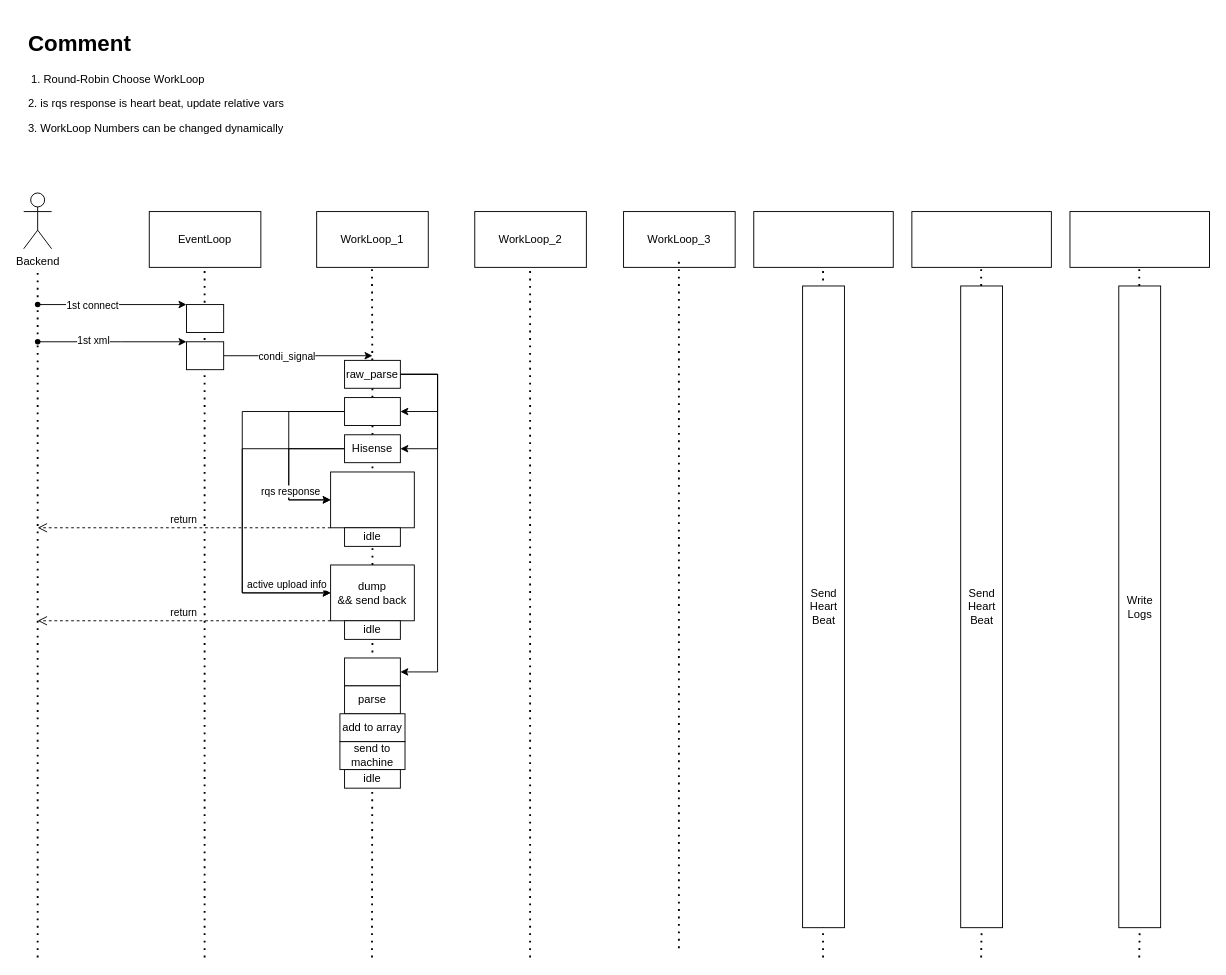
Some shapes in this 1226 by 975 pixel diagram are drawn without their labels. The box of each missing label's shape, as (x1, y1, x2, y2) in pixels:
accept: (186, 304, 224, 332)
Hisense_HeartBeat_Loop: (911, 211, 1051, 267)
Logging_Thread: (1069, 211, 1209, 267)
pop rqs && dump && send back: (330, 471, 414, 528)
read: (186, 341, 224, 370)
xingzhi: (344, 397, 400, 425)
Xingzhi_HeartBeat_Loop: (753, 211, 893, 267)
xml rqs: (344, 657, 400, 686)
